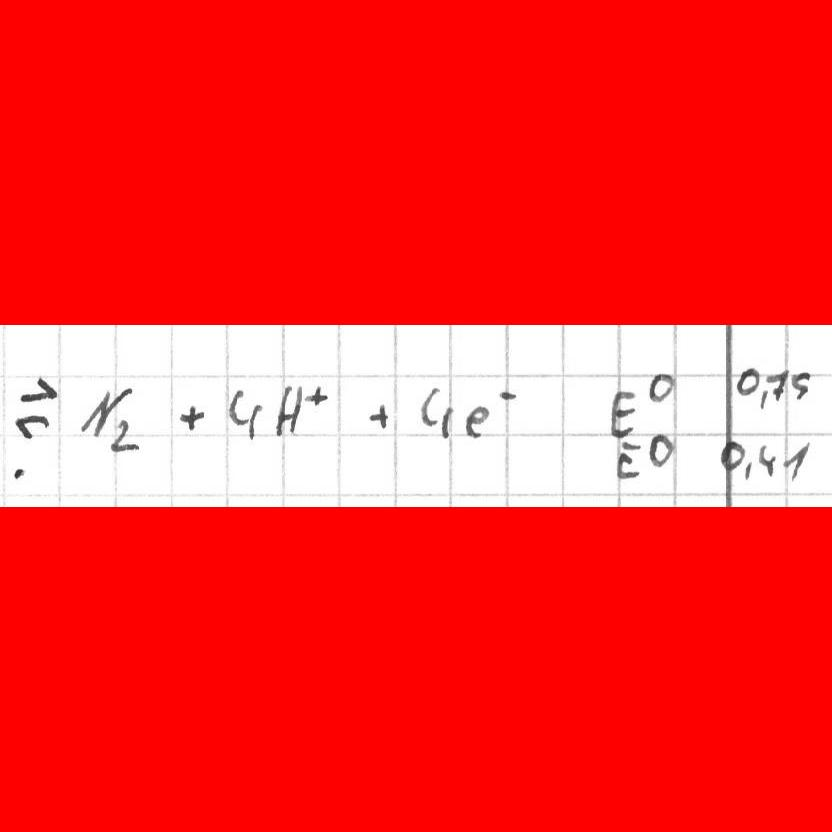Char: (13, 371, 62, 439), (81, 382, 127, 438), (270, 381, 308, 441), (419, 384, 456, 442), (228, 383, 263, 442), (606, 388, 643, 442), (781, 440, 815, 483), (612, 438, 645, 482), (644, 423, 673, 471), (109, 417, 143, 453), (459, 404, 493, 440), (176, 401, 211, 433), (648, 367, 677, 404), (763, 365, 791, 401), (719, 436, 745, 471), (788, 369, 813, 402), (370, 401, 396, 432), (735, 364, 761, 395), (756, 441, 778, 477), (302, 383, 330, 408), (493, 388, 518, 402), (757, 386, 771, 411), (742, 456, 754, 482)
